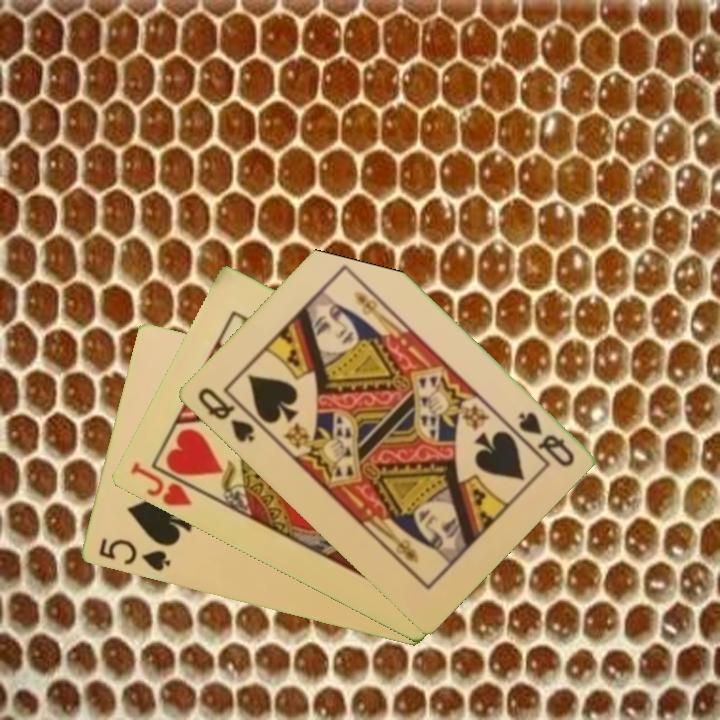5s: (95, 535, 173, 575)
Jh: (126, 459, 194, 510)
Qs: (193, 384, 257, 446), (514, 408, 577, 470)
